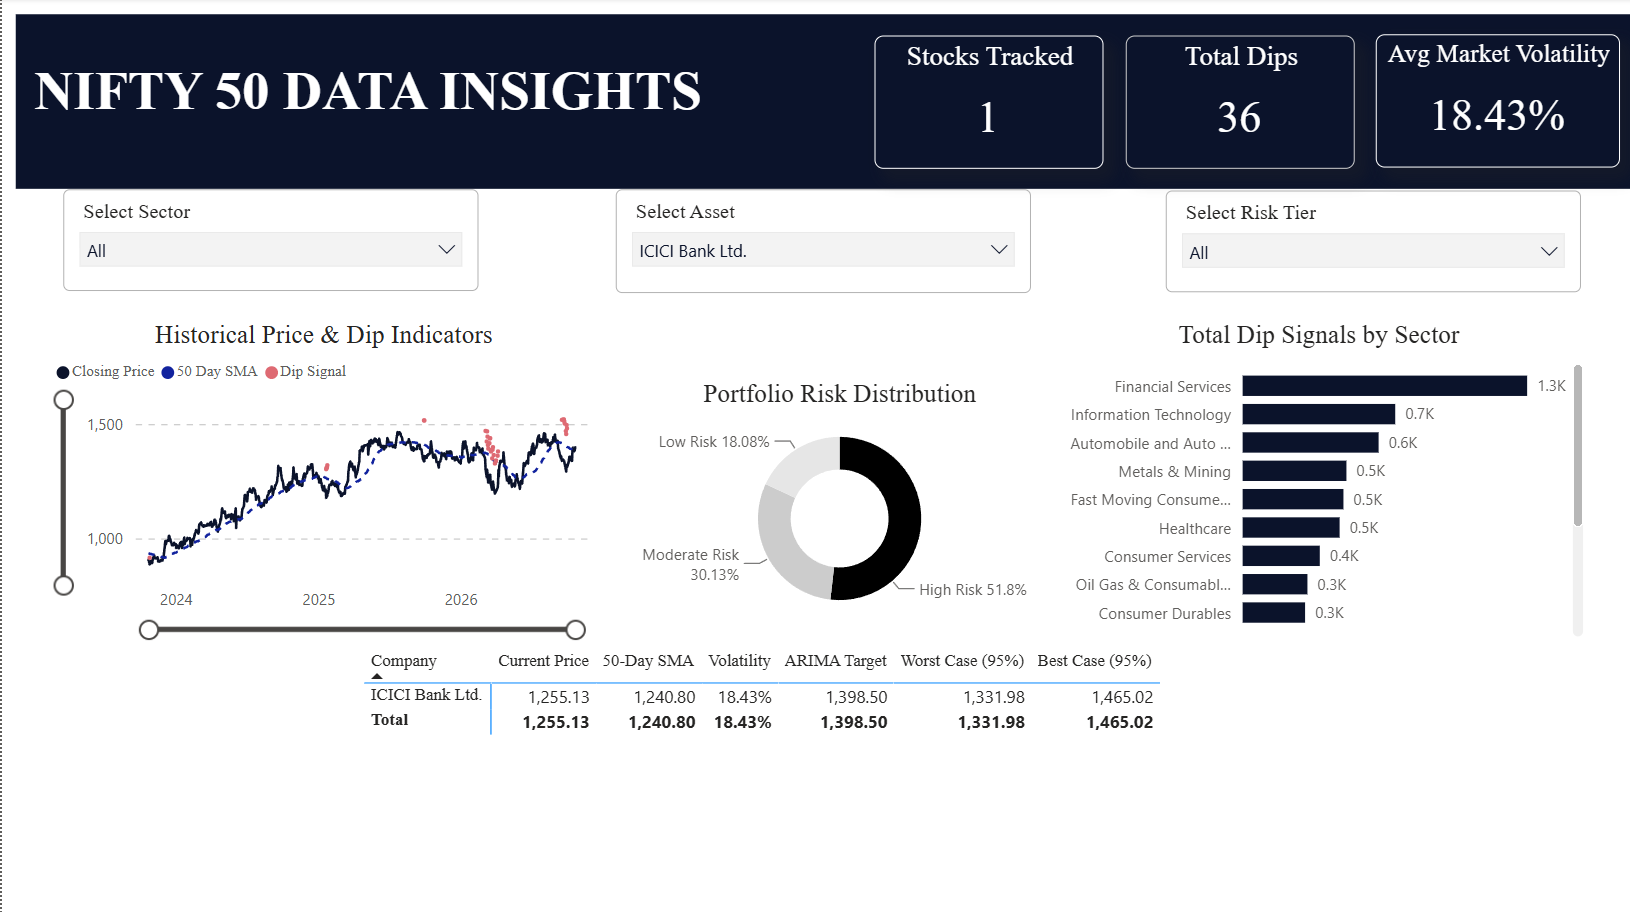

The dashboard page shown, as its layout file describes it:
{"tool":"powerbi","page":{"name":"Page 1","canvas":[1280,720],"ordinal":0},"visuals":[{"type":"shape","box":[11,12.3,1269.3,137.2],"z":0},{"type":"textbox","box":[20.9,43,653.5,241.9],"z":1000},{"type":"cardVisual","title":"Total Dips","fields":{"Data":["Sum(Stock_History1.Dip_Opportunity)"]},"box":[883.7,29.1,180.2,104.7],"z":2000},{"type":"cardVisual","title":"Stocks Tracked","fields":{"Data":["Count(Stock_History1.symbol)"]},"box":[686,29.1,180.2,104.7],"z":3000},{"type":"cardVisual","title":"Avg Market Volatility","fields":{"Data":["Avg(Stock_History1.Rolling_Vol)"]},"box":[1079.3,28.5,192.2,104.6],"z":4000},{"type":"lineChart","title":"Historical Price & Dip Indicators","fields":{"Category":["Stock_History1.date"],"Y":["Avg(Stock_History1.adjusted)","Avg(Stock_History1.SMA_50)"],"Y2":["Stock_History1.Dip Signal"]},"box":[37.2,253.5,431.4,253.5],"z":5000},{"type":"slicer","fields":{"Values":["Stock_History1.company"]},"box":[482.6,150,326.7,81.4],"z":6000},{"type":"slicer","fields":{"Values":["Stock_History1.Risk Tiers"]},"box":[915.1,151.2,326.7,80.2],"z":7000},{"type":"slicer","fields":{"Values":["Stock_History1.sector"]},"box":[47.7,150,326.7,80.2],"z":8000},{"type":"clusteredBarChart","title":"Total Dip Signals by Sector","fields":{"Category":["Stock_History1.sector"],"Y":["Sum(Stock_History1.Dip_Opportunity)"]},"box":[822.1,253.5,425.6,253.5],"z":9000},{"type":"donutChart","title":"Portfolio Risk Distribution","fields":{"Y":["CountNonNull(Stock_History1.company)"],"Category":["Stock_History1.Risk Tiers"]},"box":[482.6,300,352.3,197.7],"z":10000},{"type":"pivotTable","fields":{"Rows":["Stock_History1.company"],"Values":["Avg(Stock_History1.adjusted)","Avg(Stock_History1.SMA_50)","Avg(Stock_History1.Rolling_Vol)","Avg(Nifty50_ARIMA_Forecasts.Point Forecast)","Avg(Nifty50_ARIMA_Forecasts.Lo 95)","Avg(Nifty50_ARIMA_Forecasts.Hi 95)"]},"box":[280.2,507,812.8,212.8],"z":10001}]}

Visuals, with their boxes in screenshot pixels (x1, y1, x2, y2), scaled from the page's 1280x720 canvas onto the 1630x912 screenshot:
shape: pyautogui.locateOnScreen(14, 16, 1629, 189)
textbox: pyautogui.locateOnScreen(27, 54, 859, 361)
"Total Dips" cardVisual: pyautogui.locateOnScreen(1125, 37, 1355, 169)
"Stocks Tracked" cardVisual: pyautogui.locateOnScreen(874, 37, 1103, 169)
"Avg Market Volatility" cardVisual: pyautogui.locateOnScreen(1374, 36, 1619, 169)
"Historical Price & Dip Indicators" lineChart: pyautogui.locateOnScreen(47, 321, 597, 642)
slicer - Stock_History1.company: pyautogui.locateOnScreen(615, 190, 1031, 293)
slicer - Stock_History1.Risk Tiers: pyautogui.locateOnScreen(1165, 192, 1581, 293)
slicer - Stock_History1.sector: pyautogui.locateOnScreen(61, 190, 477, 292)
"Total Dip Signals by Sector" clusteredBarChart: pyautogui.locateOnScreen(1047, 321, 1589, 642)
"Portfolio Risk Distribution" donutChart: pyautogui.locateOnScreen(615, 380, 1063, 630)
pivotTable - Stock_History1.company x Avg(Stock_History1.adjusted): pyautogui.locateOnScreen(357, 642, 1392, 911)
